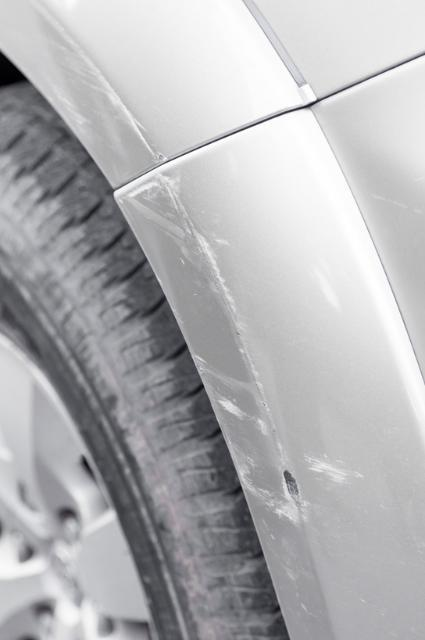Bumper: (116, 99, 425, 595)
